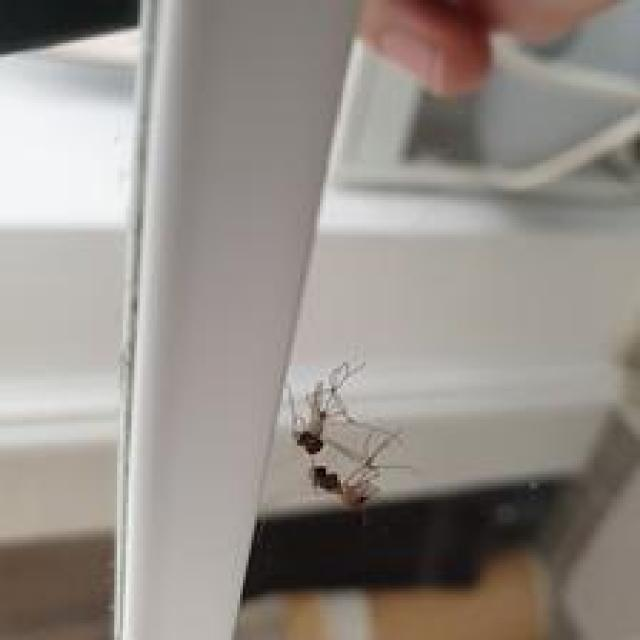Culex: (281, 356, 413, 521)
